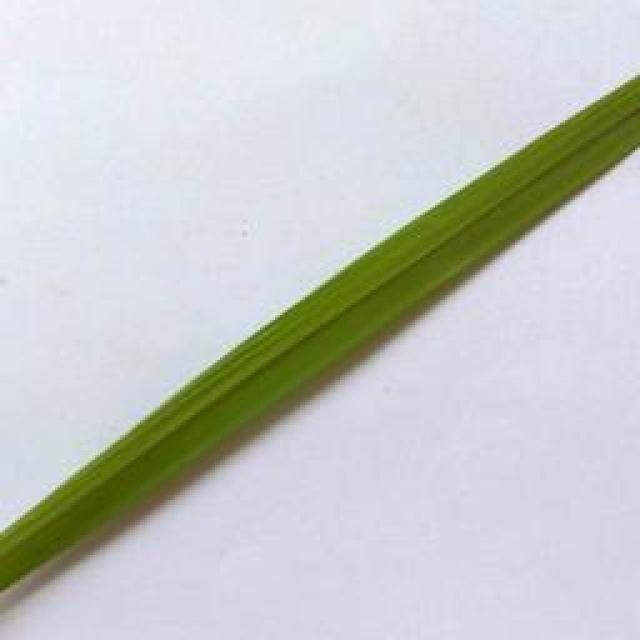Healthy-Plant: (0, 77, 640, 593)
